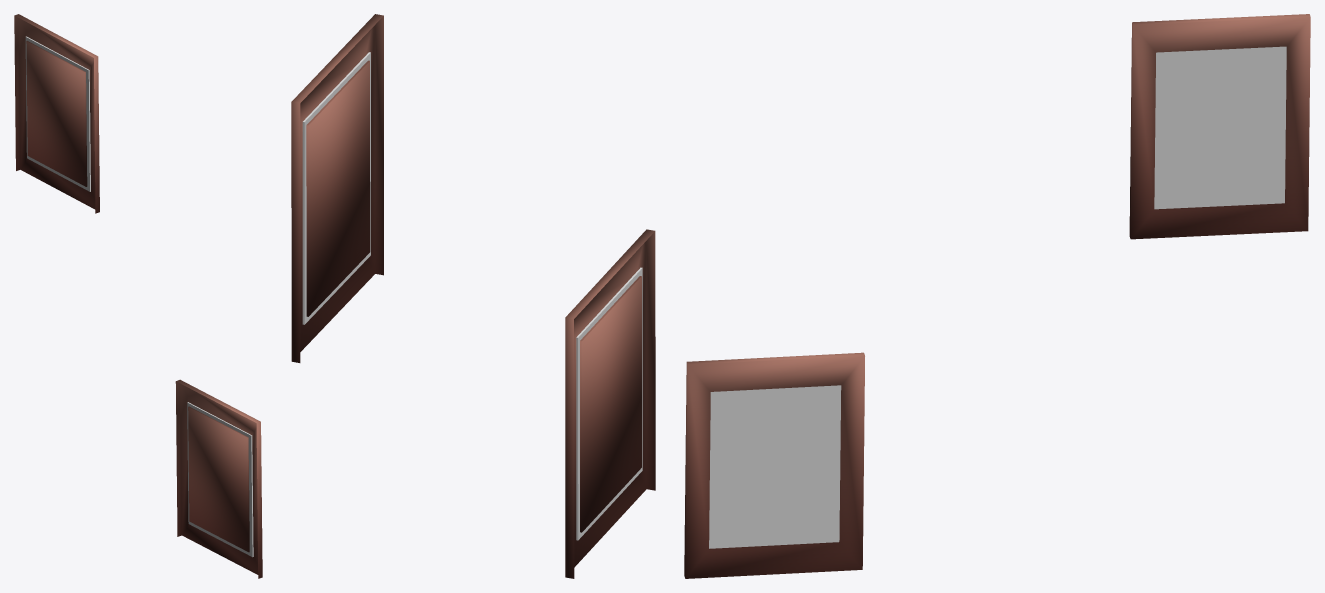
The model's file is mesh_2_wall_frames_004.fbx.
3 views of the same model, side by side, from view 1: azimuth 30°, elevation 25°; view 2: azimuth 150°, elevation 25°; view 3: azimuth 270°, elevation 25° (orthographic). The views are drawn at different scales.
Parts seen in each view (by area): view 1: picture_frame_wall_1, picture_frame_wall_2; view 2: picture_frame_wall_2, picture_frame_wall_1; view 3: picture_frame_wall_2, picture_frame_wall_1.
Part boxes in pixels (bbox=[...]): picture_frame_wall_1: bbox=[175, 379, 262, 578]; picture_frame_wall_2: bbox=[14, 14, 99, 213]; picture_frame_wall_2: bbox=[291, 14, 383, 362]; picture_frame_wall_1: bbox=[565, 229, 655, 578]; picture_frame_wall_2: bbox=[1129, 14, 1310, 239]; picture_frame_wall_1: bbox=[684, 352, 864, 578].
Bounding box in the file's own units: 12.51 × 221 × 226.
